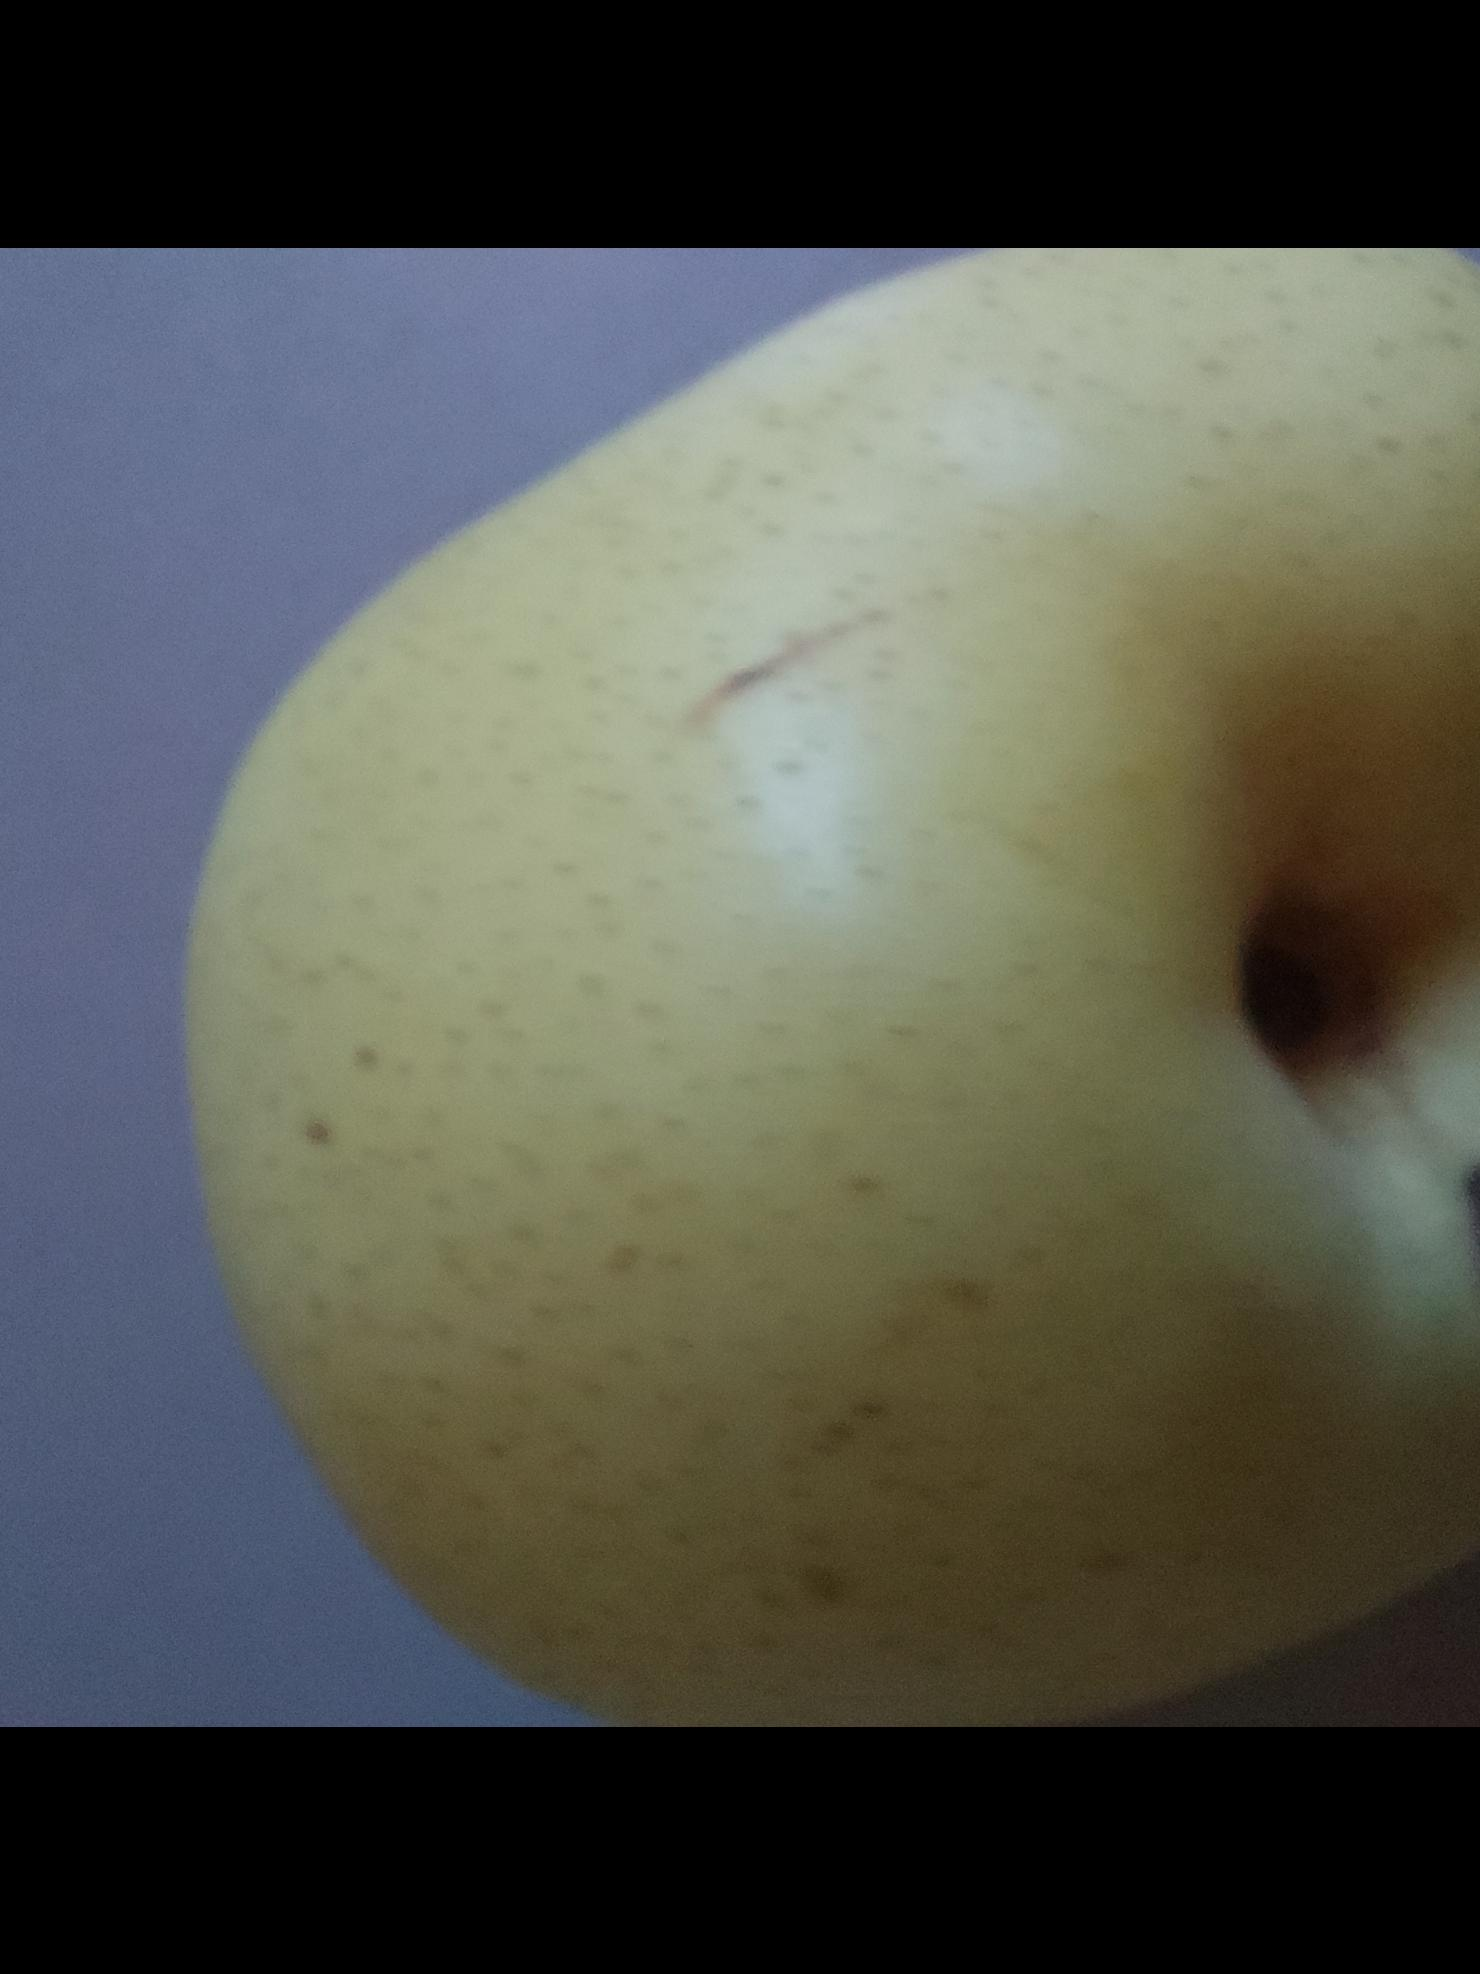Good Pear: (165, 247, 1480, 1727)
